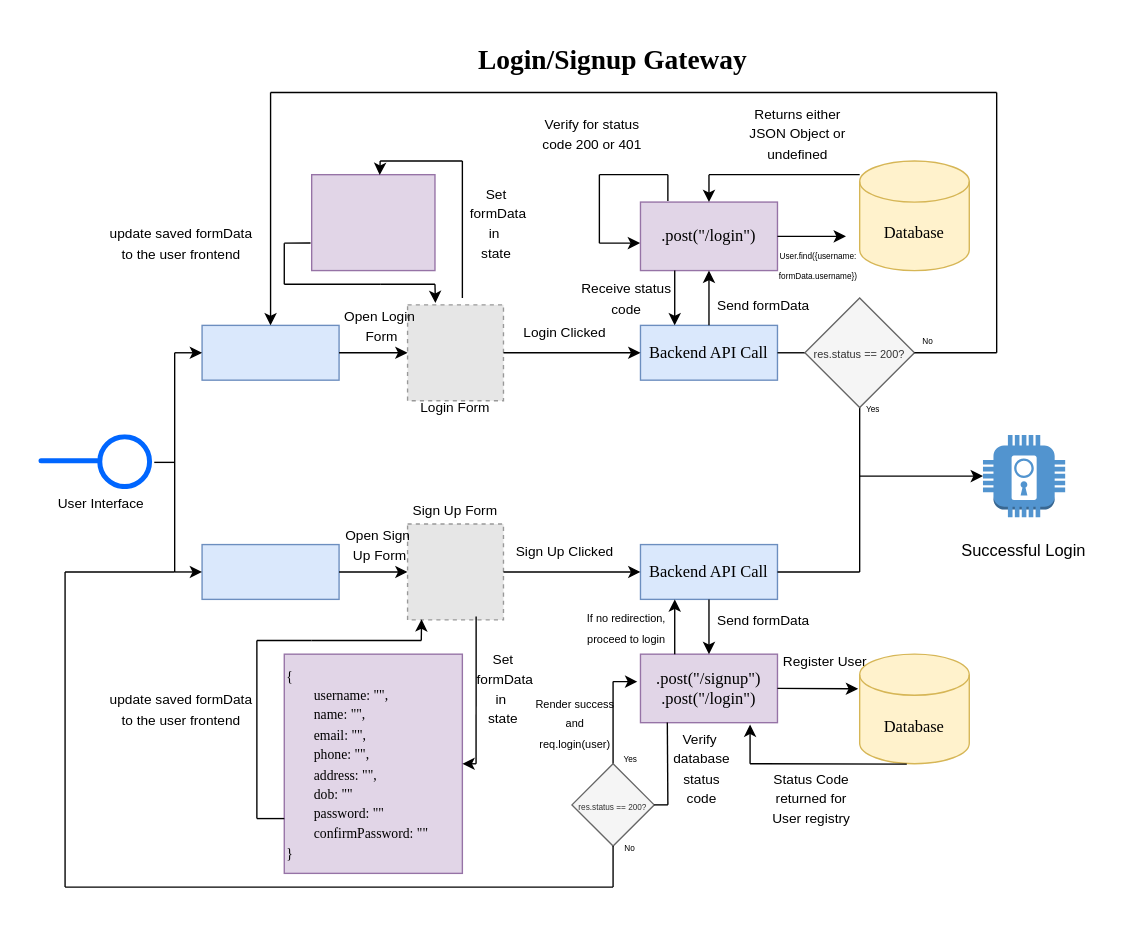
Some shapes in this 1123 by 925 pixel diagram are drawn without their labels. Grey dashed boxes stand in for pictures. The shapes that lost their labels are listed below. From the top down, each one's centre as x and y in pixels, then its label:
the point at 372,222: { username: "", password: "" }
the point at 270,352: Login route
the point at 270,571: Sign Up route
